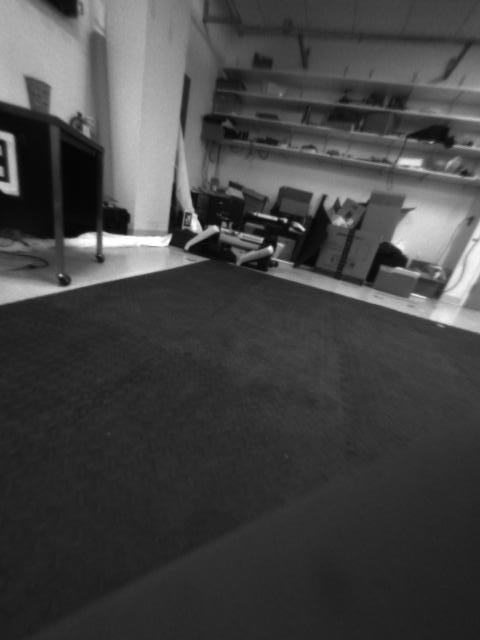coffee_cup: (23, 76, 52, 114)
